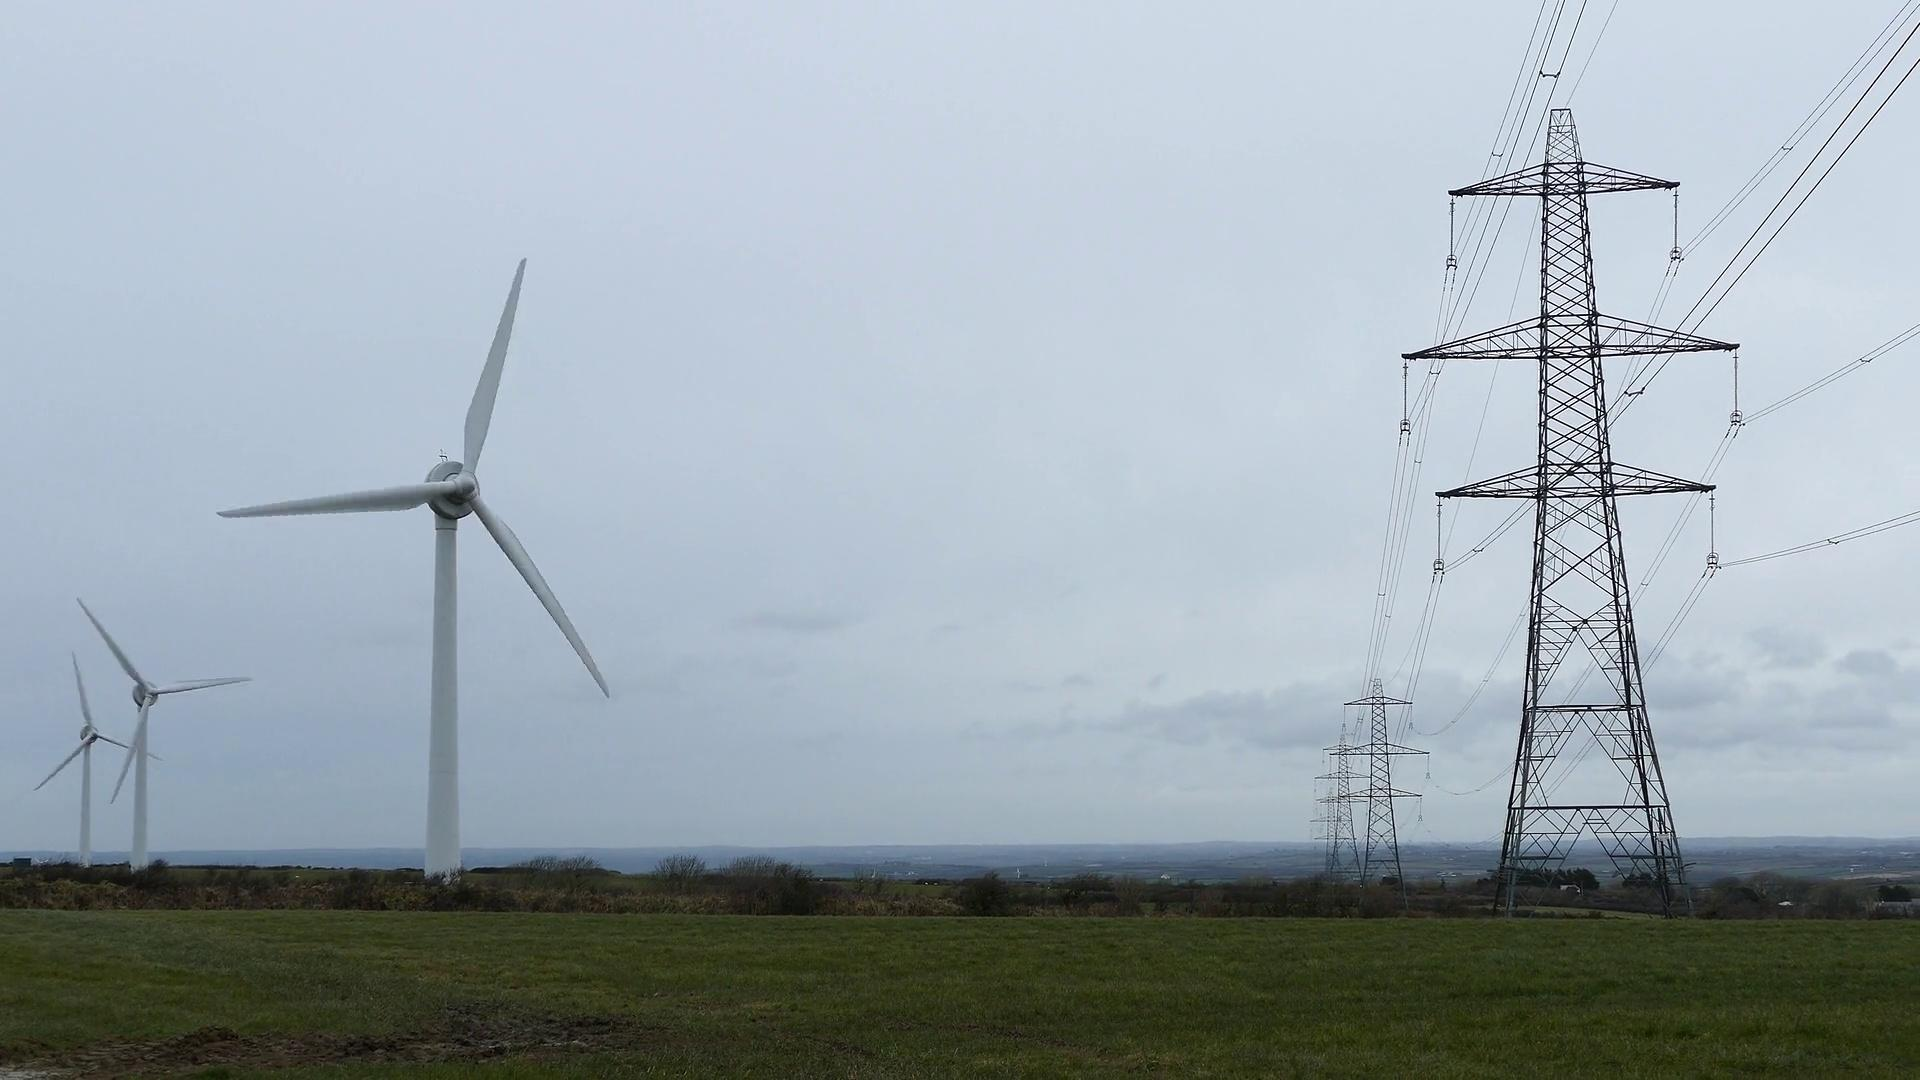cable tower: (1400, 104, 1739, 924), (1338, 673, 1433, 902), (1323, 731, 1364, 880), (1308, 789, 1346, 872)
turbine: (218, 175, 740, 949), (63, 579, 293, 918), (37, 633, 193, 887)
